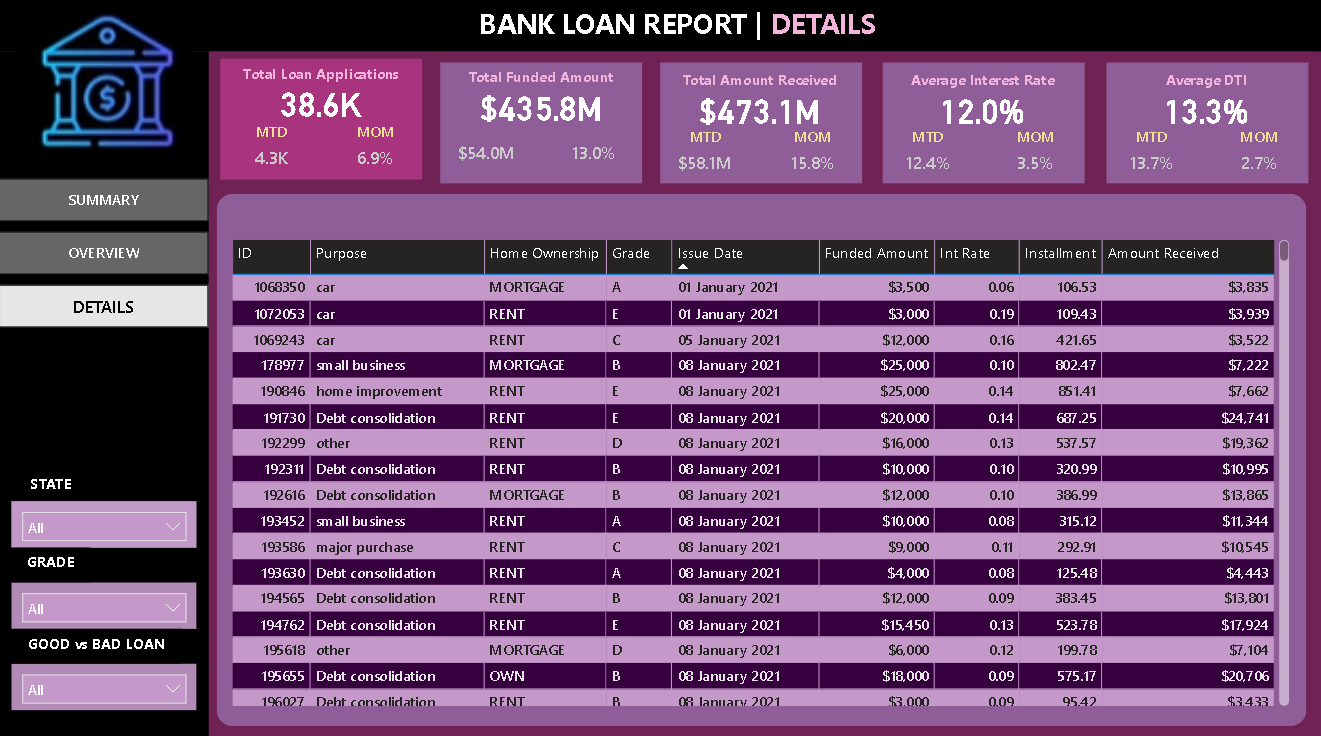

The dashboard page shown, as its layout file describes it:
{"tool":"powerbi","page":{"name":"DETAILS","canvas":[1280,720],"ordinal":2},"visuals":[{"type":"shape","box":[0,0,1280,54.3],"z":0},{"type":"shape","box":[213.2,62.1,194.9,116.6],"z":0,"group":"g1"},{"type":"shape","box":[426.7,64.8,194.9,116.6],"z":0,"group":"g2"},{"type":"shape","box":[638.1,64.8,194.9,116.6],"z":0,"group":"g3"},{"type":"shape","box":[852.6,64.8,194.9,116.6],"z":0,"group":"g4"},{"type":"shape","box":[1068.4,64.8,194.9,116.6],"z":0,"group":"g5"},{"type":"shape","box":[209.9,191.8,1052,513.9],"z":0,"group":"g7"},{"type":"textbox","box":[458.4,3.6,437.9,50.7],"z":1000},{"type":"card","fields":{"Values":["Bank_loan_data.Total Loan Application"]},"box":[213.2,62.1,194.9,85.1],"z":1000,"group":"g1"},{"type":"card","fields":{"Values":["Bank_loan_data.Total Funded Amount"]},"box":[426.7,64.8,194.9,85.1],"z":1000,"group":"g2"},{"type":"card","fields":{"Values":["Bank_loan_data.Total Amount Received"]},"box":[637.2,66.8,194.9,85.1],"z":1000,"group":"g3"},{"type":"card","fields":{"Values":["Bank_loan_data.Avg Interest Rate"]},"box":[851.7,66.8,194.9,85.1],"z":1000,"group":"g4"},{"type":"card","fields":{"Values":["Bank_loan_data.Average DTI"]},"box":[1067.5,66.8,194.9,85.1],"z":1000,"group":"g5"},{"type":"shape","box":[0,54.3,202.7,666],"z":1500,"group":"g6"},{"type":"group","id":"g1","title":"Group 1","box":[213.2,62.1,194.3,116],"z":2000},{"type":"textbox","box":[213.2,62.1,194.9,31.6],"z":2000,"group":"g1"},{"type":"textbox","box":[426.7,64.8,194.9,31.6],"z":2000,"group":"g2"},{"type":"textbox","box":[637.2,66.8,194.9,31.6],"z":2000,"group":"g3"},{"type":"textbox","box":[851.7,66.8,194.9,31.6],"z":2000,"group":"g4"},{"type":"textbox","box":[1067.5,66.8,194.9,31.6],"z":2000,"group":"g5"},{"type":"group","id":"g2","title":"Group 1","box":[426.3,64.8,194.3,116],"z":3000},{"type":"card","title":"MTD","fields":{"Values":["Bank_loan_data.MTD Loan Application"]},"box":[213.6,123.2,98.8,54.9],"z":3000,"group":"g1"},{"type":"card","title":"MTD","fields":{"Values":["Bank_loan_data.MTD Funded Amount"]},"box":[426.3,125.9,89.2,54.9],"z":3000,"group":"g2"},{"type":"card","title":"MTD","fields":{"Values":["Bank_loan_data.MTD Received Amount"]},"box":[636.8,127.9,89.2,54.9],"z":3000,"group":"g3"},{"type":"card","title":"MTD","fields":{"Values":["Bank_loan_data.MTD Avg Interest Rate"]},"box":[851.3,127.9,89.2,54.9],"z":3000,"group":"g4"},{"type":"card","title":"MTD","fields":{"Values":["Bank_loan_data.MTD DTI"]},"box":[1067.1,127.9,89.2,54.9],"z":3000,"group":"g5"},{"type":"shape","box":[1265.6,42.2,14.5,12.1],"z":4000,"group":"g6"},{"type":"group","id":"g3","title":"Group 1","box":[636.8,64.8,197,117.4],"z":4000},{"type":"card","title":"MOM","fields":{"Values":["Bank_loan_data.MOM Loan Applications"]},"box":[317.9,123.2,89.2,54.9],"z":4000,"group":"g1"},{"type":"card","title":"MOM","fields":{"Values":["Bank_loan_data.MOM Total Funded Amount"]},"box":[529.4,125.9,91.9,54.9],"z":4000,"group":"g2"},{"type":"card","title":"MOM","fields":{"Values":["Bank_loan_data.MOM Total Amount Received"]},"box":[739.9,127.9,91.9,54.9],"z":4000,"group":"g3"},{"type":"card","title":"MOM","fields":{"Values":["Bank_loan_data.MOM total Received Amount"]},"box":[954.4,127.9,91.9,54.9],"z":4000,"group":"g4"},{"type":"card","title":"MOM","fields":{"Values":["Bank_loan_data.MOM DTI"]},"box":[1170.2,127.9,91.9,54.9],"z":4000,"group":"g5"},{"type":"group","id":"g4","title":"Group 1","box":[851.3,64.8,197,117.4],"z":5000},{"type":"group","id":"g5","title":"Group 1","box":[1067.1,64.8,197,117.4],"z":6000},{"type":"group","id":"g6","title":"Group 4","box":[0,42.2,1280,678],"z":7000},{"type":"slicer","fields":{"Values":["Bank_loan_data.address_state"]},"box":[12.1,488.6,178.6,44.6],"z":8000},{"type":"slicer","fields":{"Values":["Bank_loan_data.grade"]},"box":[12.1,567,178.6,44.6],"z":9000},{"type":"textbox","box":[12.1,533.2,76,33.8],"z":10000},{"type":"slicer","fields":{"Values":["Bank_loan_data.Good vs Bad loan"]},"box":[12.1,645.4,178.6,44.6],"z":11000},{"type":"textbox","box":[12.1,611.7,164.1,33.8],"z":12000},{"type":"group","id":"g7","title":"Group 3","box":[209.9,191.8,1052,513.9],"z":13000},{"type":"pageNavigator","box":[0,177.3,202.7,144.8],"z":14000},{"type":"textbox","box":[25.3,457.2,76,33.8],"z":14002,"group":"g6"},{"type":"slicer","fields":{"Values":["Bank_loan_data.address_state"]},"box":[12.1,488.6,178.6,44.6],"z":14500,"group":"g6"},{"type":"image","box":[0,0,202.7,179.8],"z":15000},{"type":"tableEx","fields":{"Values":["Bank_loan_data.id","Bank_loan_data.purpose","Bank_loan_data.home_ownership","Bank_loan_data.grade","Bank_loan_data.issue_date","Bank_loan_data.Total Funded Amount","Sum(Bank_loan_data.int_rate)","Sum(Bank_loan_data.installment)","Bank_loan_data.Total Amount Received"]},"box":[219.6,231.8,1030.3,459.7],"z":16001,"group":"g7"}]}

Visuals, with their boxes in screenshot pixels (x1, y1, x2, y2), scaled from the page's 1280x720 canvas onto the 1321x736 screenshot:
shape: BBox(0, 0, 1320, 56)
shape: BBox(220, 63, 421, 183)
shape: BBox(440, 66, 642, 185)
shape: BBox(659, 66, 860, 185)
shape: BBox(880, 66, 1081, 185)
shape: BBox(1103, 66, 1304, 185)
shape: BBox(217, 196, 1302, 721)
textbox: BBox(473, 4, 925, 56)
card - Bank_loan_data.Total Loan Application: BBox(220, 63, 421, 150)
card - Bank_loan_data.Total Funded Amount: BBox(440, 66, 642, 153)
card - Bank_loan_data.Total Amount Received: BBox(658, 68, 859, 155)
card - Bank_loan_data.Avg Interest Rate: BBox(879, 68, 1080, 155)
card - Bank_loan_data.Average DTI: BBox(1102, 68, 1303, 155)
shape: BBox(0, 56, 209, 735)
"Group 1" group: BBox(220, 63, 421, 182)
textbox: BBox(220, 63, 421, 96)
textbox: BBox(440, 66, 642, 99)
textbox: BBox(658, 68, 859, 101)
textbox: BBox(879, 68, 1080, 101)
textbox: BBox(1102, 68, 1303, 101)
"Group 1" group: BBox(440, 66, 640, 185)
"MTD" card: BBox(220, 126, 322, 182)
"MTD" card: BBox(440, 129, 532, 185)
"MTD" card: BBox(657, 131, 749, 187)
"MTD" card: BBox(879, 131, 971, 187)
"MTD" card: BBox(1101, 131, 1193, 187)
shape: BBox(1306, 43, 1320, 56)
"Group 1" group: BBox(657, 66, 861, 186)
"MOM" card: BBox(328, 126, 420, 182)
"MOM" card: BBox(546, 129, 641, 185)
"MOM" card: BBox(764, 131, 858, 187)
"MOM" card: BBox(985, 131, 1080, 187)
"MOM" card: BBox(1208, 131, 1303, 187)
"Group 1" group: BBox(879, 66, 1082, 186)
"Group 1" group: BBox(1101, 66, 1305, 186)
"Group 4" group: BBox(0, 43, 1320, 735)
slicer - Bank_loan_data.address_state: BBox(12, 499, 197, 545)
slicer - Bank_loan_data.grade: BBox(12, 580, 197, 625)
textbox: BBox(12, 545, 91, 580)
slicer - Bank_loan_data.Good vs Bad loan: BBox(12, 660, 197, 705)
textbox: BBox(12, 625, 182, 660)
"Group 3" group: BBox(217, 196, 1302, 721)
pageNavigator: BBox(0, 181, 209, 329)
textbox: BBox(26, 467, 105, 502)
slicer - Bank_loan_data.address_state: BBox(12, 499, 197, 545)
image: BBox(0, 0, 209, 184)
tableEx - Bank_loan_data.id x Bank_loan_data.purpose: BBox(227, 237, 1290, 707)
